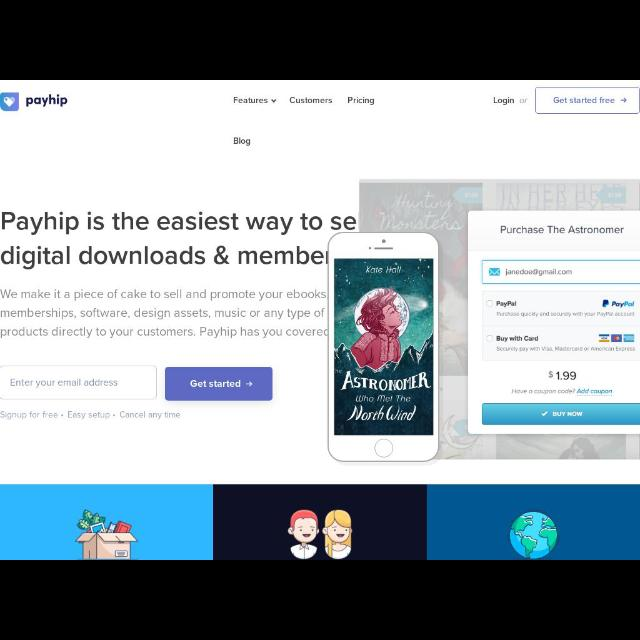icon: (620, 97, 628, 103), (245, 381, 252, 387), (271, 98, 277, 104)
image: (360, 180, 640, 460), (328, 233, 439, 462), (0, 485, 214, 559), (215, 485, 428, 559), (427, 485, 639, 559), (0, 92, 68, 111)
input: (1, 367, 157, 399)
spinner: (233, 96, 277, 104)
text: (2, 211, 356, 269), (0, 289, 328, 339), (2, 410, 180, 420), (10, 378, 118, 388), (553, 96, 615, 104), (190, 380, 240, 388), (290, 96, 334, 104), (232, 96, 268, 104), (348, 96, 374, 106), (492, 97, 516, 105), (232, 138, 252, 146), (520, 98, 528, 104)
textbutton: (166, 368, 272, 400), (536, 88, 640, 112)
toolbar: (1, 80, 640, 148)
